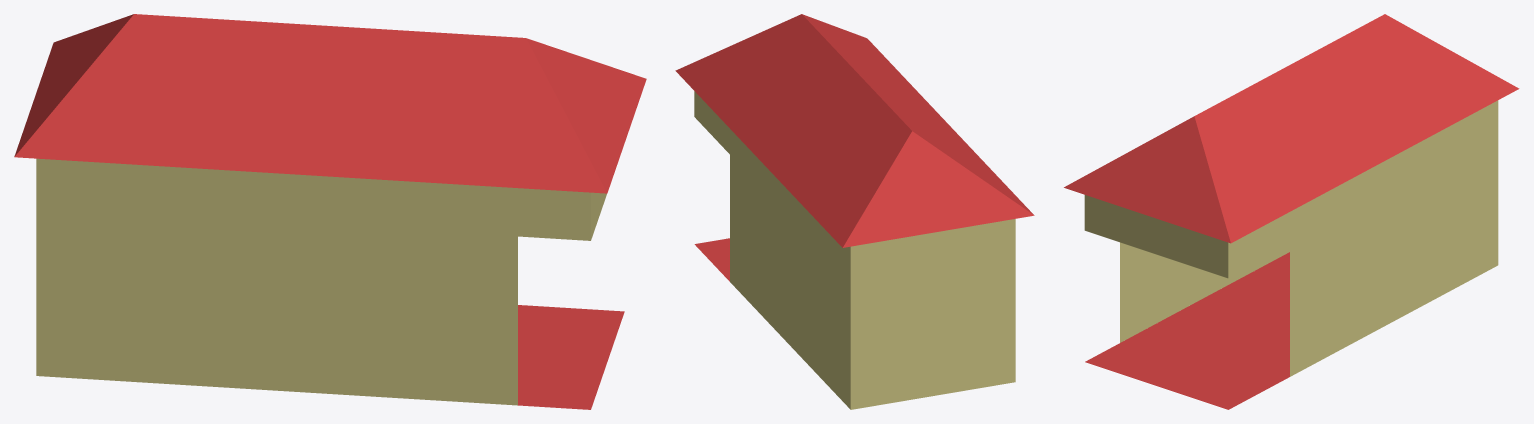
3 renders of one model, left to right at view 1: azimuth 30°, elevation 25°; view 2: azimuth 150°, elevation 25°; view 3: azimuth 270°, elevation 25°, orthographic. The views are drawn at different scales.
Visible parts, largest first — view 1: group_5, group_3, group_6, group_4; view 2: group_5, group_3, group_6; view 3: group_5, group_3, group_6, group_4.
Boxes of the visible parts, box(x1,y1,x2,y2) form: group_5: box(36, 158, 606, 405); group_3: box(14, 14, 646, 193); group_6: box(518, 305, 624, 409); group_4: box(591, 110, 610, 192); group_5: box(694, 91, 1015, 409); group_3: box(675, 14, 1034, 247); group_6: box(694, 238, 729, 281); group_5: box(1084, 100, 1498, 376); group_3: box(1064, 14, 1519, 243); group_6: box(1085, 252, 1289, 409); group_4: box(1064, 75, 1517, 200).
Bounding box in the file's own units: 24.78 × 22.69 × 13.61.
